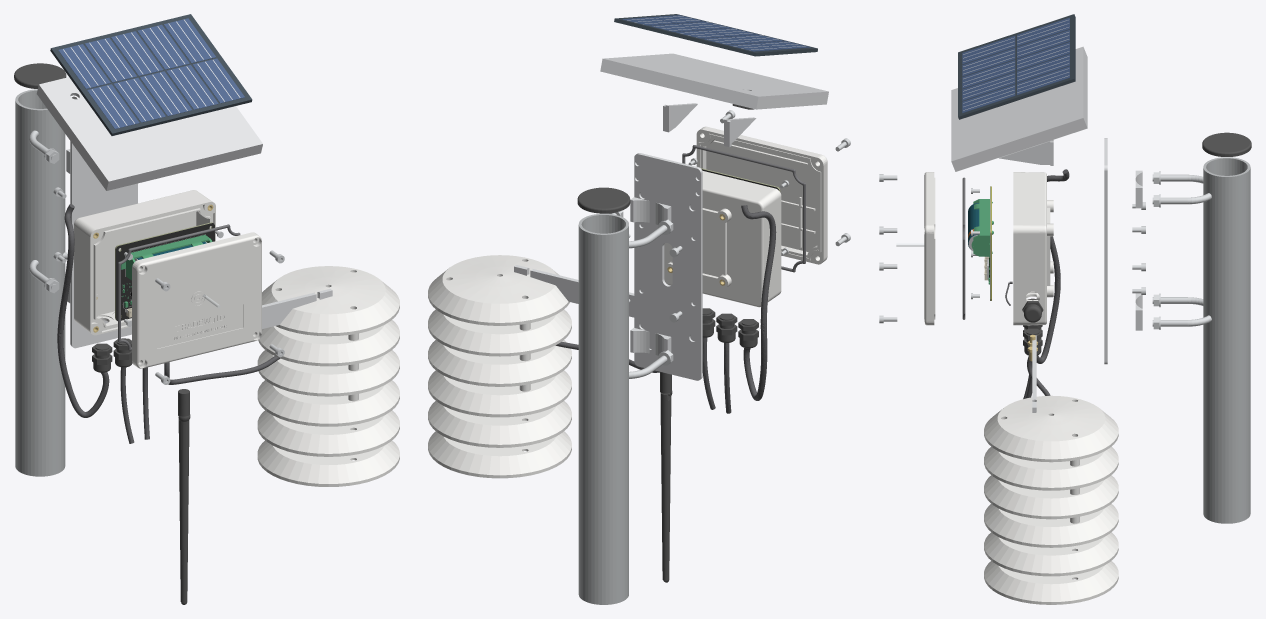
The model's file is exploded.glb.
The picture shows the model from 3 angles, left to right: view 1: azimuth 30°, elevation 25°; view 2: azimuth 150°, elevation 25°; view 3: azimuth 270°, elevation 25°; orthographic projection. The views are drawn at different scales.
Visible parts, largest first — view 1: pole, lid, panel_cells, roof, base, shield_cap, shield_plate_4, shield_plate_5, shield_plate_3, shield_plate_2, shield_plate_1, panel (+12 smaller); view 2: pole, bracket_plate, base, lid, shield_cap, roof, shield_plate_5, shield_plate_4, shield_plate_1, shield_plate_3, shield_plate_2, panel_cells (+11 smaller); view 3: pole, roof, shield_cap, panel_cells, base, shield_plate_4, shield_plate_5, shield_plate_1, shield_plate_2, shield_plate_3, panel, ubolts (+9 smaller).
Boxes of the visible parts, x1,y1,x2,y2 form: pole: (15,89,65,476); lid: (132,232,261,368); panel_cells: (58,18,244,128); roof: (36,77,262,190); base: (74,190,215,335); shield_cap: (262,266,399,336); shield_plate_4: (257,410,399,456); shield_plate_5: (257,430,399,486); shield_plate_3: (257,380,399,426); shield_plate_2: (257,350,399,396); shield_plate_1: (258,320,399,366); panel: (50,14,252,135); pole: (578,213,628,604); bracket_plate: (634,153,702,380); base: (664,170,781,307); lid: (696,126,827,264); shield_cap: (428,255,569,325); roof: (600,53,828,109); shield_plate_5: (428,420,571,478); shield_plate_4: (428,401,571,447); shield_plate_1: (428,298,571,356); shield_plate_3: (428,370,571,417); shield_plate_2: (428,340,571,386); panel_cells: (622,15,810,51); pole: (1203,157,1250,523); roof: (951,46,1087,171); shield_cap: (984,395,1118,462); panel_cells: (962,17,1069,113); base: (1013,172,1053,325); shield_plate_4: (984,532,1118,576); shield_plate_5: (984,551,1118,604); shield_plate_1: (984,436,1118,490); shield_plate_2: (984,475,1118,519); shield_plate_3: (984,503,1118,547); panel: (958,14,1075,119); ubolts: (1152,171,1211,329).
Size of the model in its own units: 0.325 by 0.5266 by 0.331.
